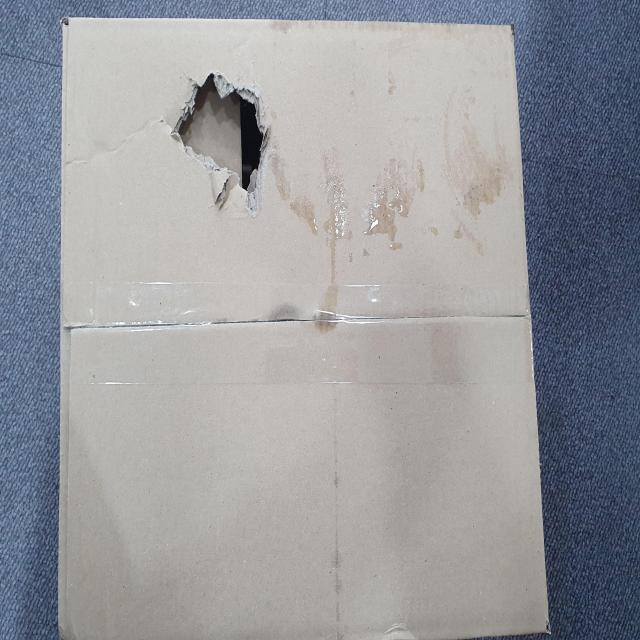damaged: (230, 292, 323, 496)
